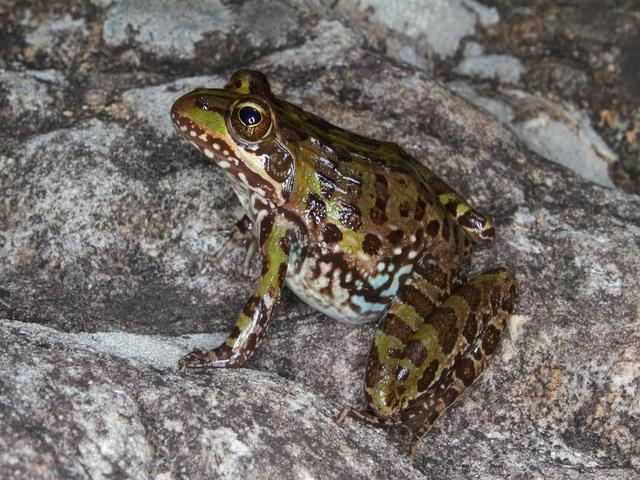frog: (118, 38, 558, 440)
